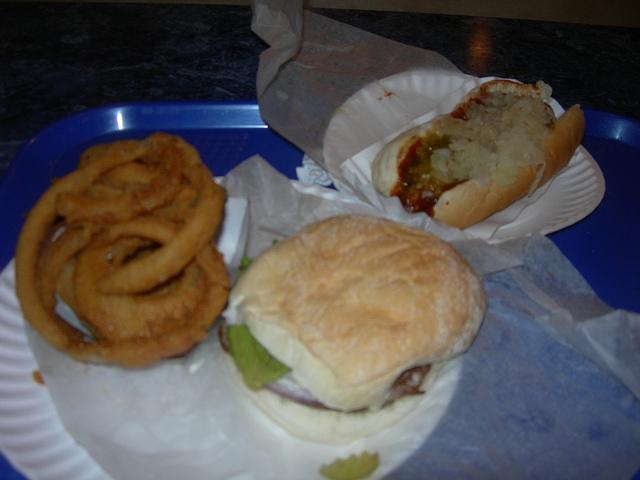lettuce: (228, 325, 290, 390)
onion: (72, 237, 206, 342), (470, 166, 493, 186), (532, 97, 546, 119), (498, 133, 509, 145)
